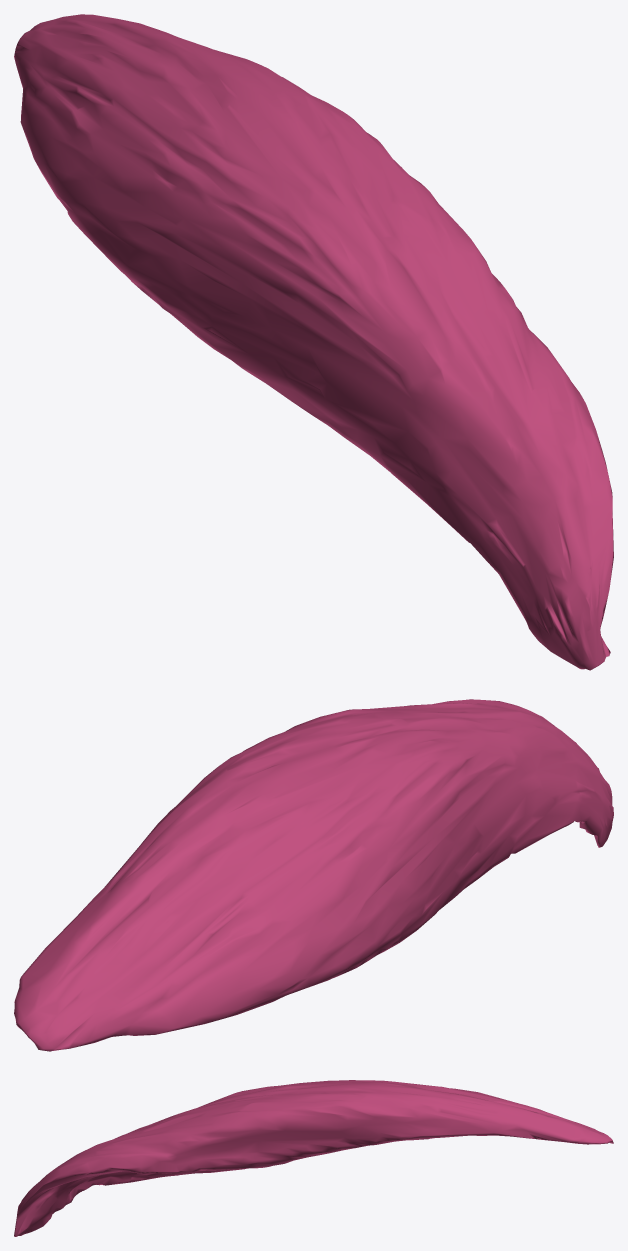
3 renders of one model, top to bottom at view 1: azimuth 30°, elevation 25°; view 2: azimuth 150°, elevation 25°; view 3: azimuth 270°, elevation 25°, orthographic. The views are drawn at different scales.
Parts seen in each view (by area): view 1: 右侧腓肠肌外侧头; view 2: 右侧腓肠肌外侧头; view 3: 右侧腓肠肌外侧头.
Boxes of the visible parts, bbox=[...] form: 右侧腓肠肌外侧头: bbox=[14, 14, 613, 670]; 右侧腓肠肌外侧头: bbox=[14, 699, 613, 1051]; 右侧腓肠肌外侧头: bbox=[14, 1080, 613, 1236].
Bounding box in the file's own units: 0.0797 × 0.1148 × 0.3968.
